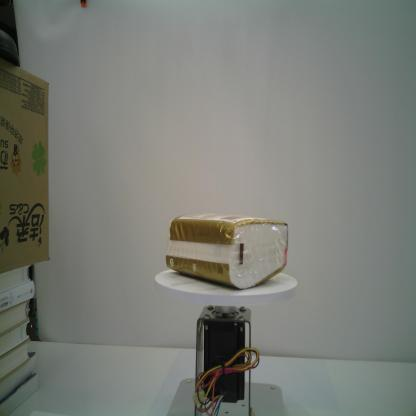Tissue: (164, 210, 290, 291)
